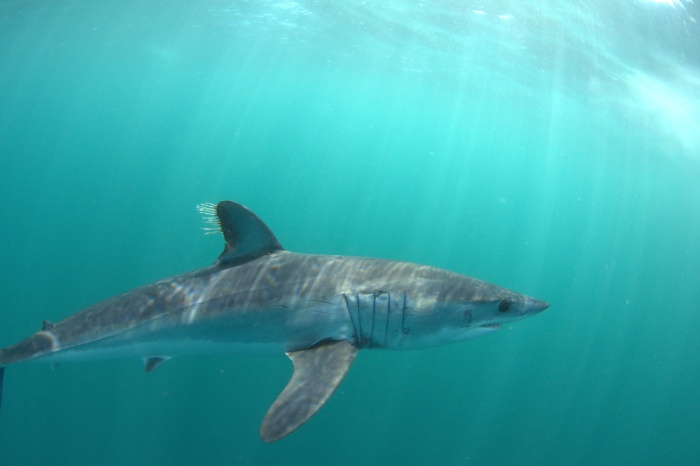Mako: (1, 196, 558, 465)
